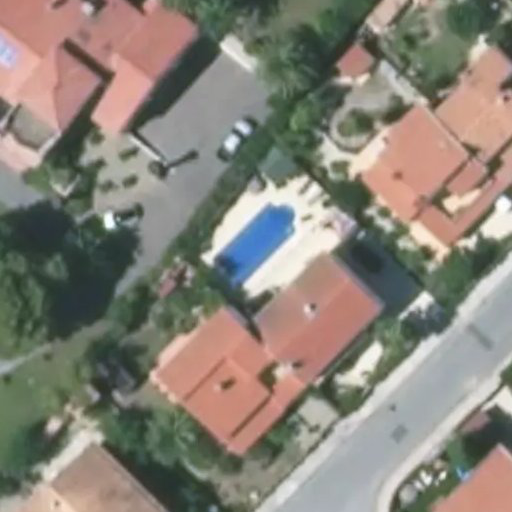pool: (210, 200, 298, 283)
